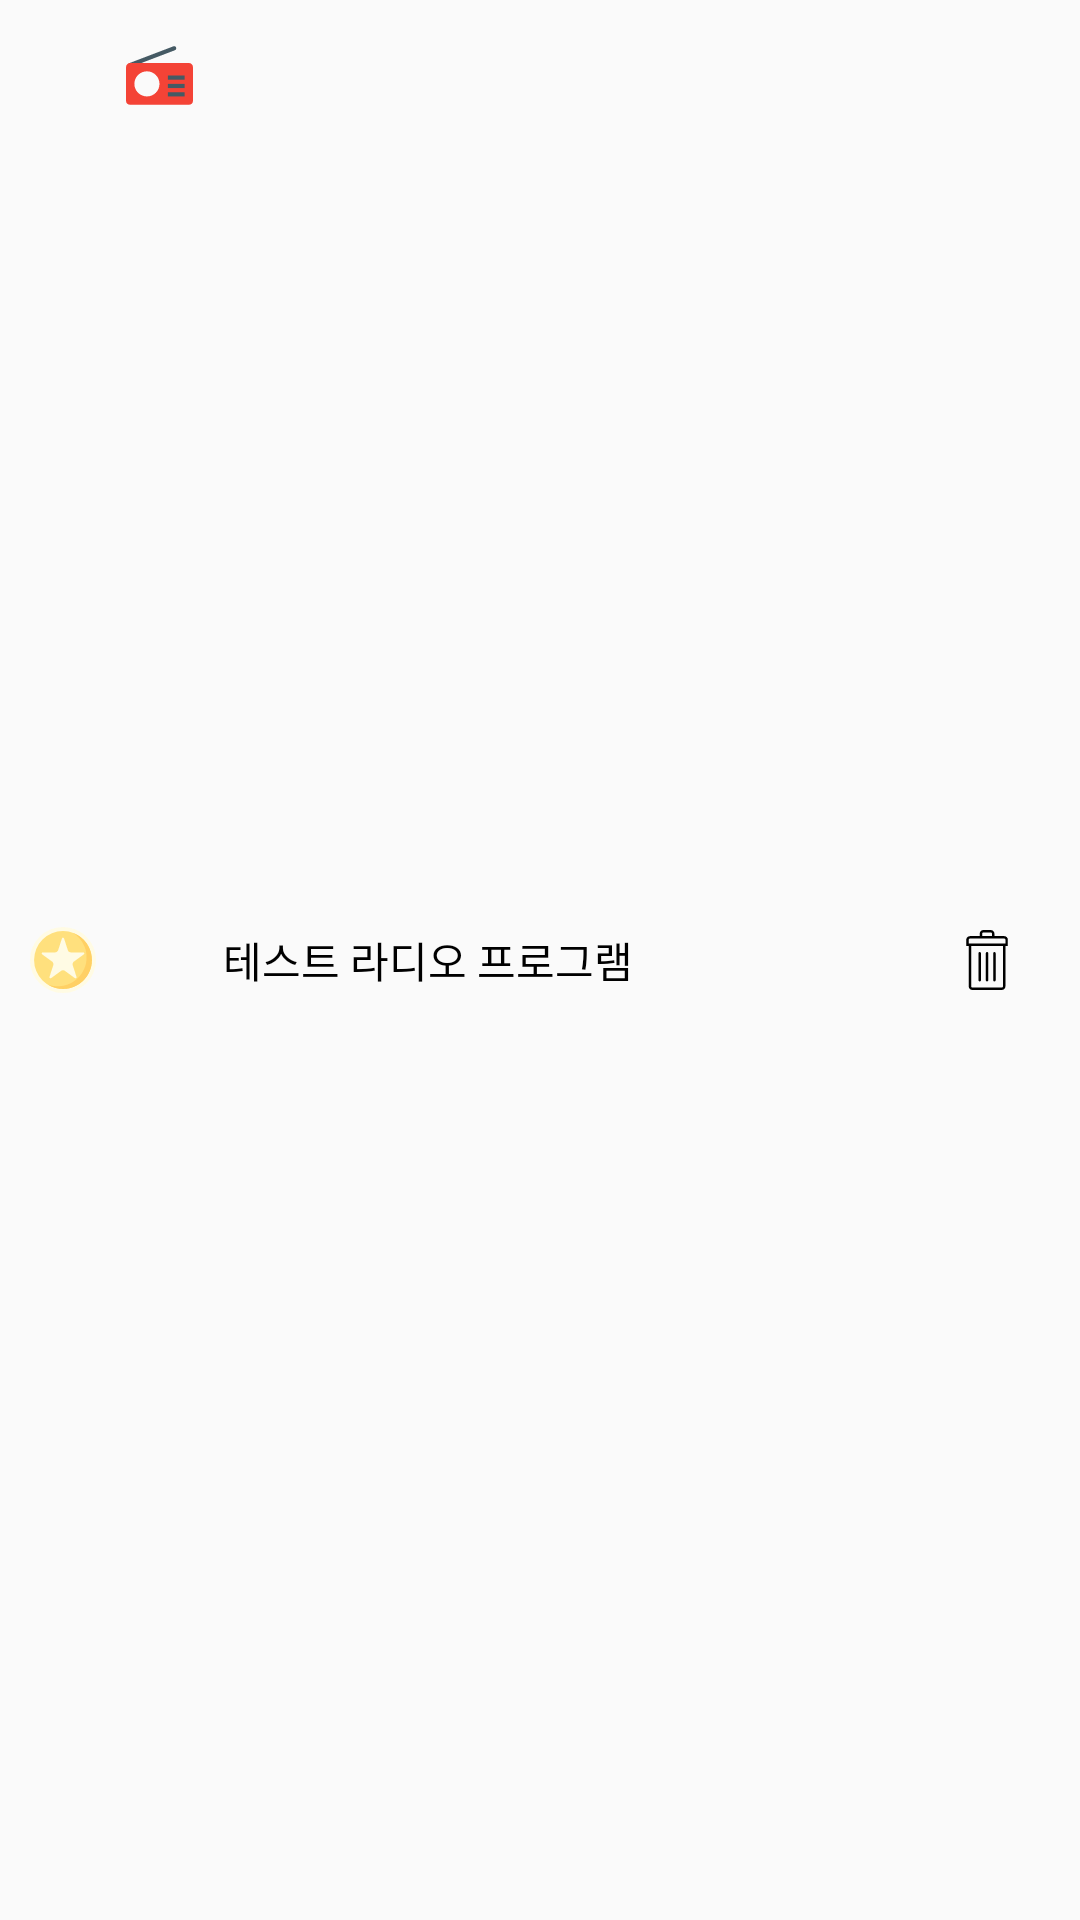

Icon bounding boxes for this 1080 x 1920 phone screenshot, format {"left": x1, "top": y1, "right": x2, "bottom": y2}:
fav delete: {"left": 966, "top": 930, "right": 1008, "bottom": 990}
fav radio: {"left": 126, "top": 46, "right": 193, "bottom": 105}
star: {"left": 34, "top": 931, "right": 92, "bottom": 989}
